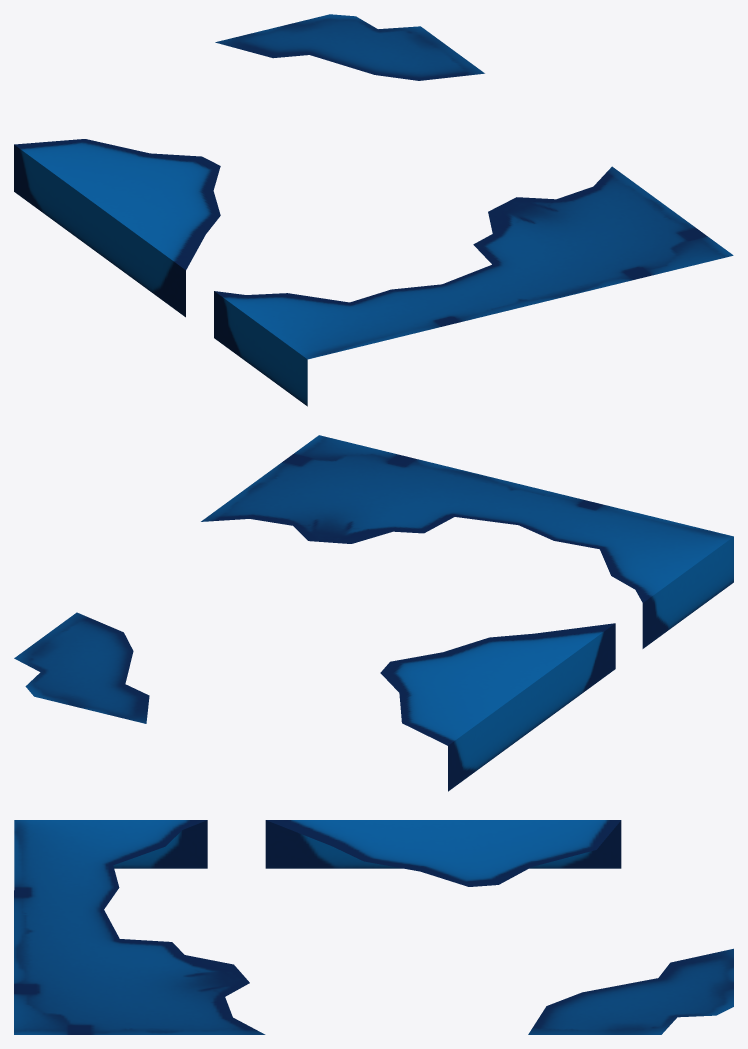
File: Water_01.FBX
3 views of the same model, one above another, from view 1: azimuth 30°, elevation 25°; view 2: azimuth 150°, elevation 25°; view 3: azimuth 270°, elevation 25° (orthographic). The views are drawn at different scales.
Visible parts, largest first — view 1: Water_01; view 2: Water_01; view 3: Water_01.
Boxes of the visible parts, x1=… form: Water_01: x1=14, y1=14, x2=733, y2=406; Water_01: x1=14, y1=435, x2=733, y2=791; Water_01: x1=14, y1=820, x2=733, y2=1034.
Size of the model in its own units: 17.43 by 1.84 by 24.67.
